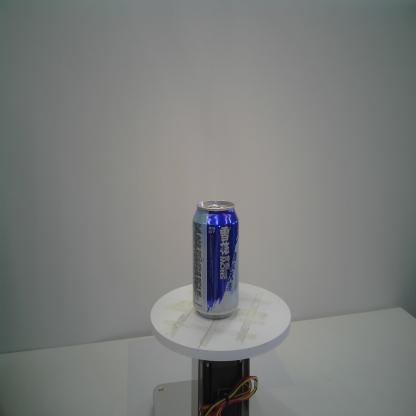Alcohol: (191, 199, 240, 320)
